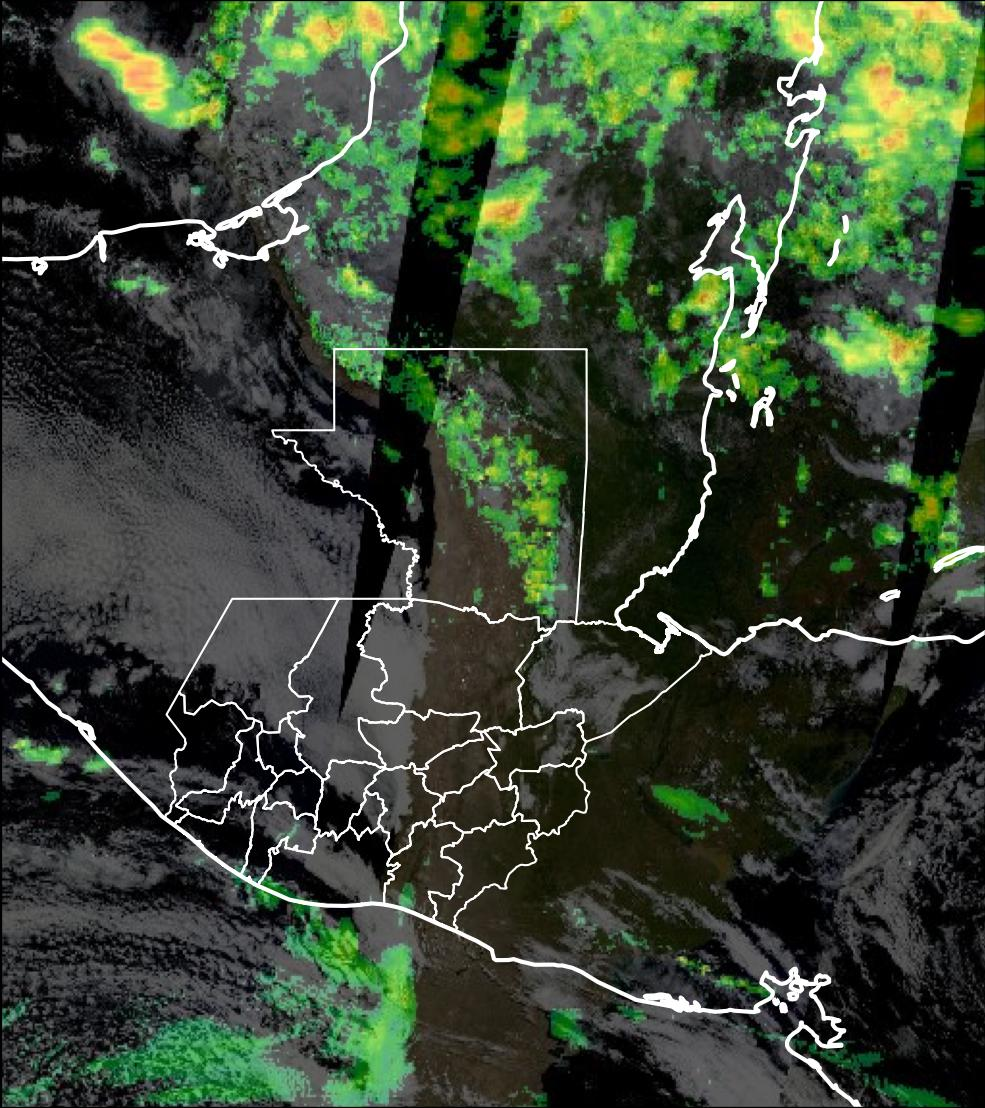precipitacion: (69, 22, 185, 123)
